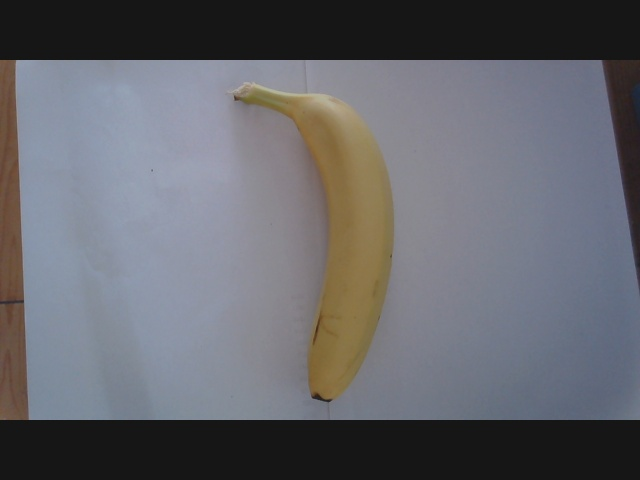banana: (268, 95, 413, 401)
